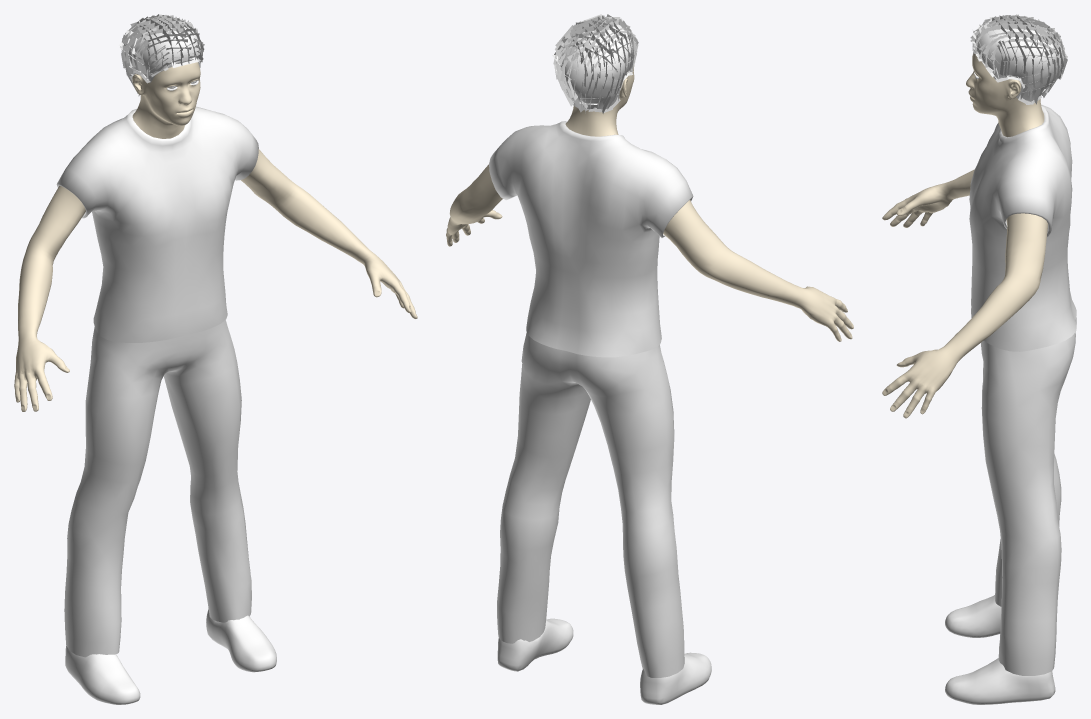
The model's file is actor.obj.
The picture shows the model from 3 angles, left to right: view 1: azimuth 30°, elevation 25°; view 2: azimuth 150°, elevation 25°; view 3: azimuth 270°, elevation 25°; orthographic projection.
Visible parts, largest first — view 1: Human.male_casualsuit04, Human, Human.shoes02, Human.afro01; view 2: Human.male_casualsuit04, Human, Human.afro01, Human.shoes02; view 3: Human.male_casualsuit04, Human, Human.afro01, Human.shoes02.
Part boxes in pixels (x1,y1,x2,y2): Human.male_casualsuit04: (56, 106, 258, 657); Human: (14, 62, 417, 411); Human.shoes02: (65, 609, 276, 704); Human.afro01: (119, 14, 204, 96); Human.male_casualsuit04: (489, 121, 693, 677); Human: (446, 65, 853, 341); Human.afro01: (552, 14, 638, 113); Human.shoes02: (497, 618, 711, 704); Human.male_casualsuit04: (969, 104, 1076, 675); Human: (882, 53, 1048, 418); Human.afro01: (970, 14, 1067, 104); Human.shoes02: (945, 595, 1055, 704).
Bounding box in the file's own units: 1.13 × 1.78 × 0.4846.
